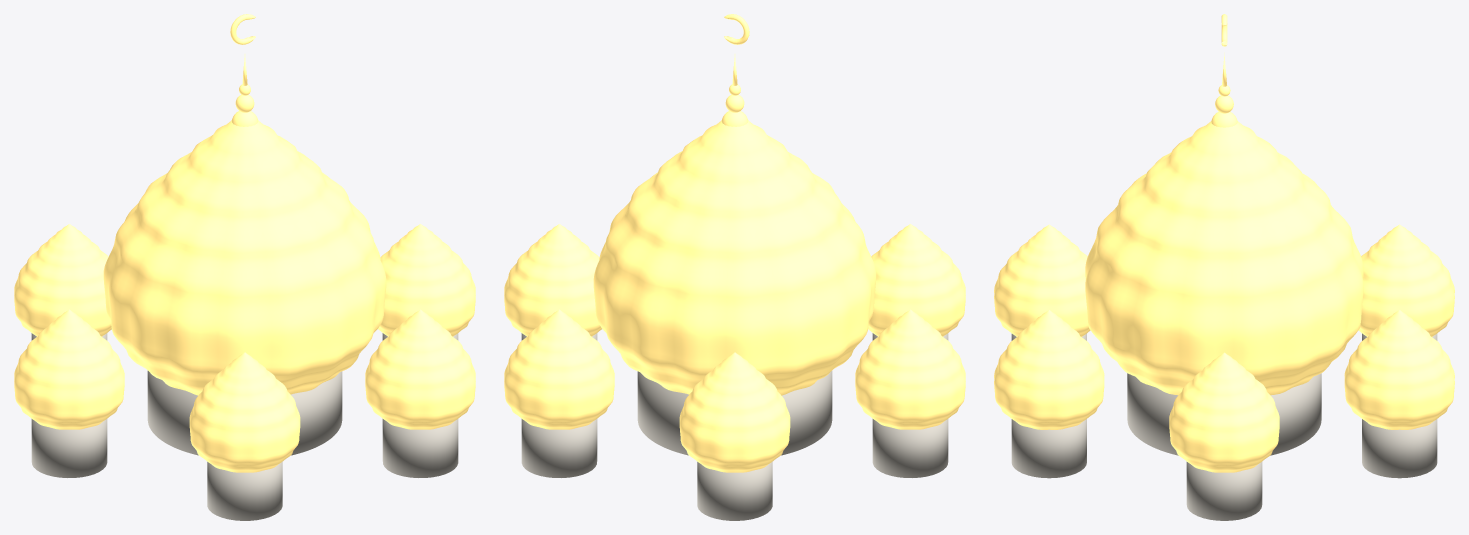
Rendered from dome_tiered.glb.
3 renders of one model, left to right at view 1: azimuth 30°, elevation 25°; view 2: azimuth 150°, elevation 25°; view 3: azimuth 270°, elevation 25°, orthographic.
Visible parts, largest first — view 1: tiered; view 2: tiered; view 3: tiered.
Boxes of the visible parts, box(x1,y1,x2,y2) form: tiered: box(14, 14, 475, 520); tiered: box(504, 14, 965, 520); tiered: box(994, 14, 1454, 520).
Size of the model in its own units: 3.82 by 3.31 by 3.42.
